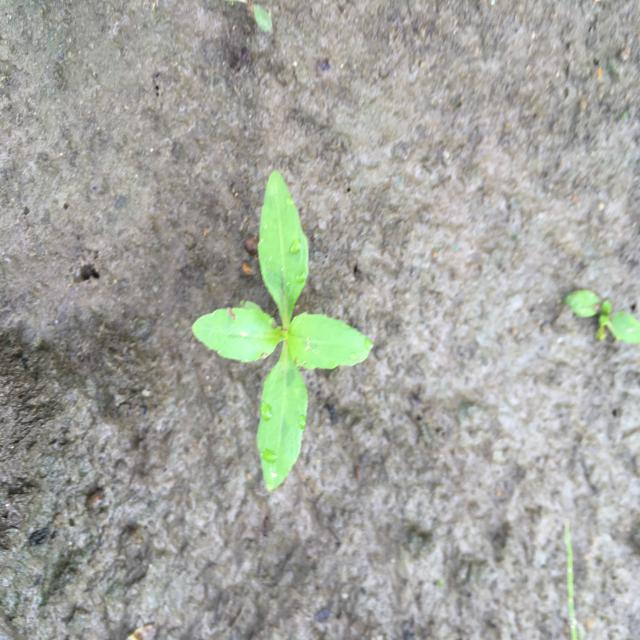Eclipta: (190, 166, 376, 496)
